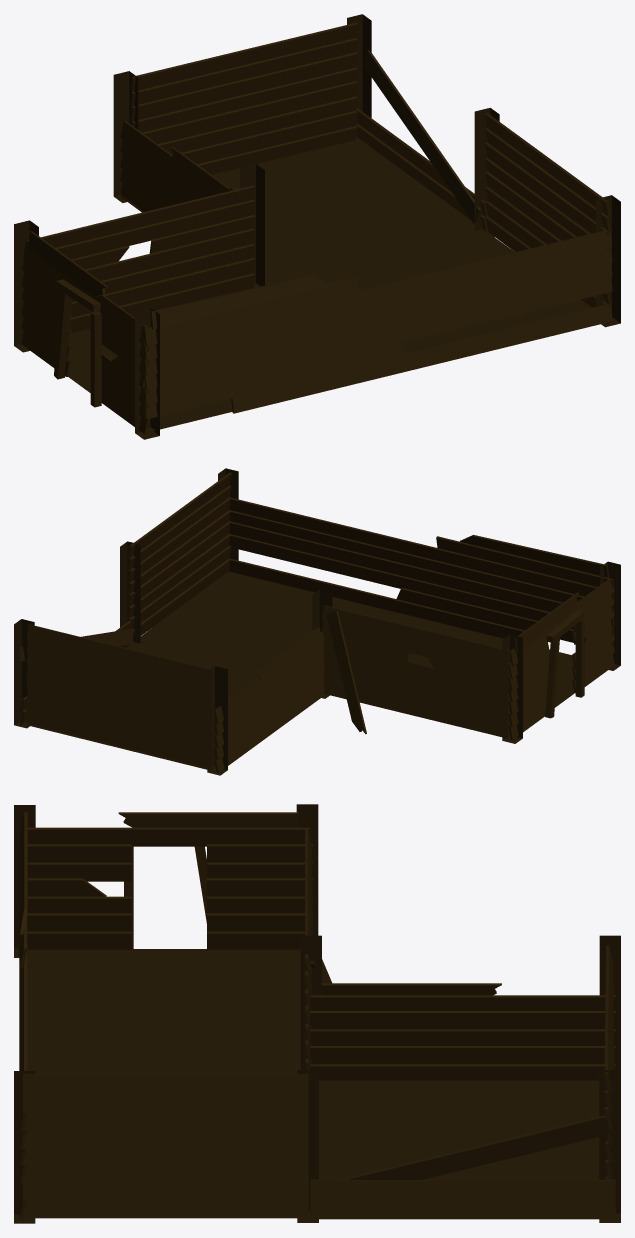
File: AbandonedBuildings.fbx
3 views of the same model, one above another, from view 1: azimuth 30°, elevation 25°; view 2: azimuth 150°, elevation 25°; view 3: azimuth 270°, elevation 25° (orthographic). The views are drawn at different scales.
Visible parts, largest first — view 1: RightWall.147; view 2: RightWall.147; view 3: RightWall.147.
Boxes of the visible parts, <box> form: RightWall.147: <box>14,14,620,439</box>; RightWall.147: <box>14,468,620,775</box>; RightWall.147: <box>14,804,620,1223</box>.
Bounding box in the file's own units: 2498 × 677 × 2317.
